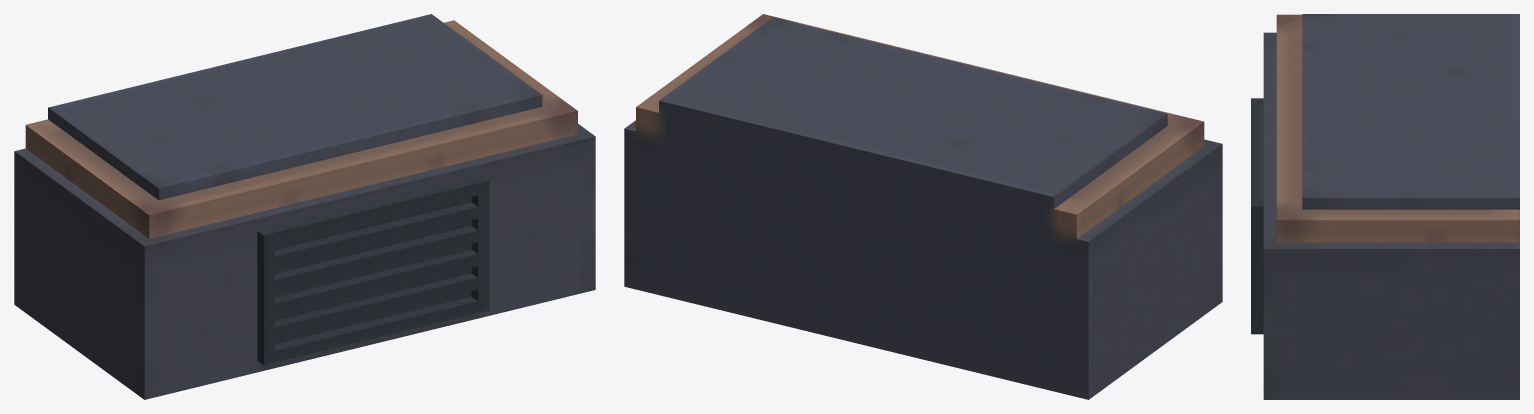
Rendered from BuildingBlock_24.glb.
3 views of the same model, side by side, from view 1: azimuth 30°, elevation 25°; view 2: azimuth 150°, elevation 25°; view 3: azimuth 270°, elevation 25° (orthographic). The views are drawn at different scales.
Visible parts, largest first — view 1: BuildingBlock_24; view 2: BuildingBlock_24; view 3: BuildingBlock_24.
Part boxes in pixels (left/top/right/bottom): BuildingBlock_24: left=14, top=14, right=595, bottom=399; BuildingBlock_24: left=624, top=14, right=1222, bottom=399; BuildingBlock_24: left=1251, top=14, right=1519, bottom=399.
Size of the model in its own units: 4 by 1.6 by 2.1.
1 material, 1 textured.
